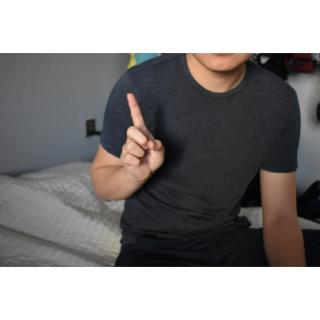BAA: (117, 90, 168, 181)
